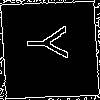Y: (25, 25, 80, 61)
